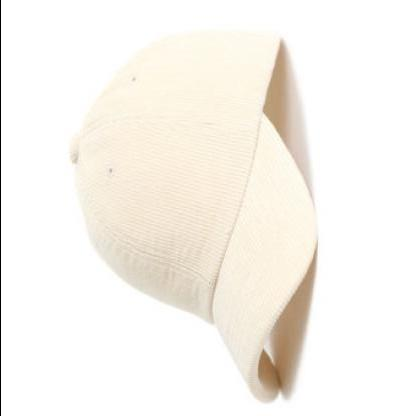cap: (61, 18, 318, 408)
